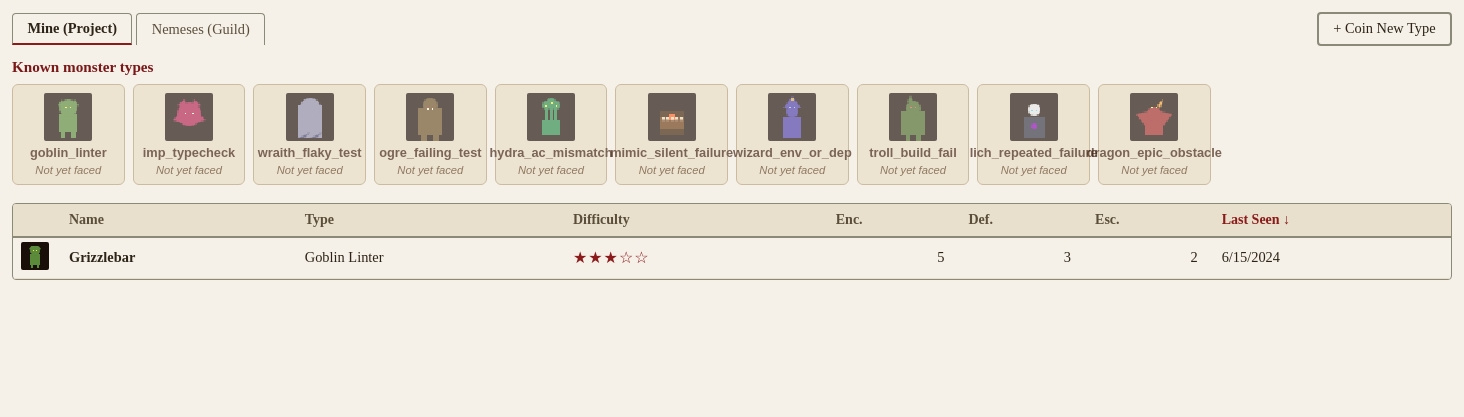
Test: Bestiary — detail panel › opens the detail panel when a row is clicked
The width and height of the screenshot is (1464, 417).
Expected: the text "Grizzlebar" is shown, [57,237,293,278]
What coordinates should you click on to do the following:
click the row "Grizzlebar Goblin Linter ★★★☆☆ 5 3 2 6/15/2024"
I would click on:
 (732, 258)
Its box is [13,237,1451,278].
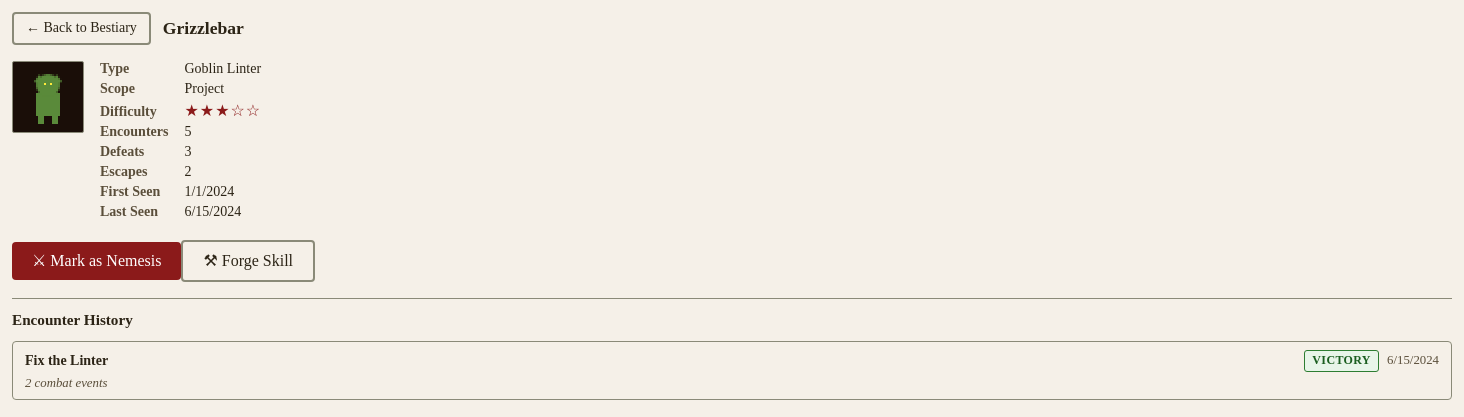
Result: the button "← Back to Bestiary" is shown at [12,12,151,45]
